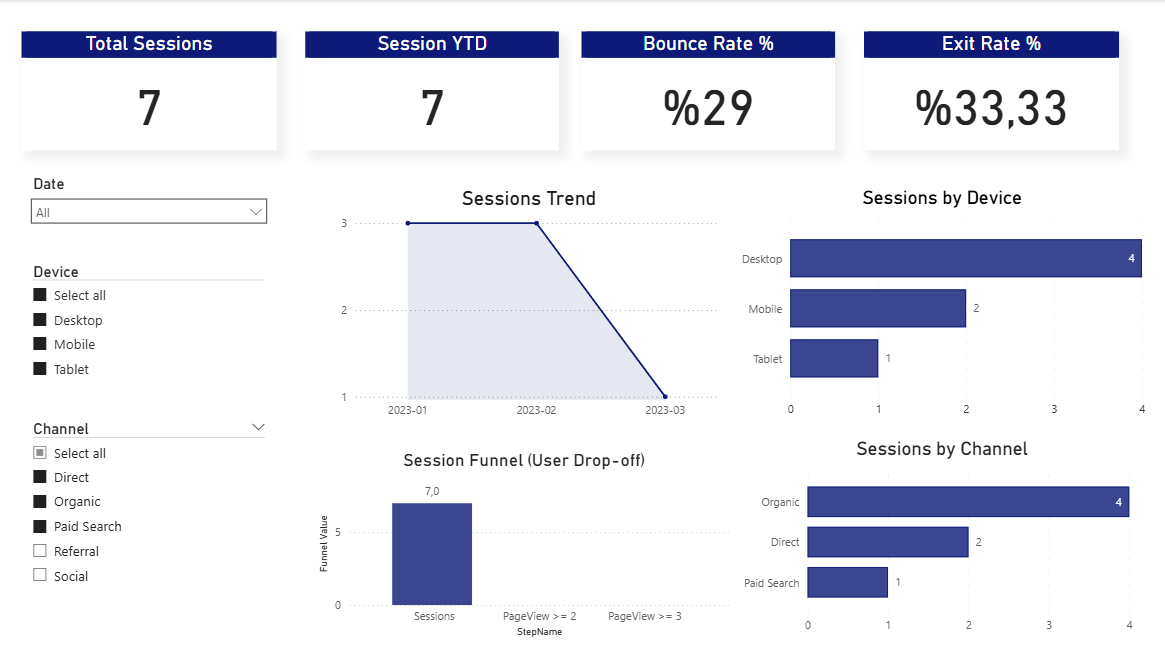

Layout of this report page (visuals, bound fields, positions):
{"tool":"powerbi","page":{"name":"Dashboard","canvas":[1280,720],"ordinal":3},"visuals":[{"type":"card","title":"Total Sessions","fields":{"Values":["FactSessions.Total Sessions"]},"box":[24.7,35.7,279.9,130.4],"z":0},{"type":"card","title":"Bounce Rate %","fields":{"Values":["FactSessions.Bounce Rate %"]},"box":[639.5,35.7,278.6,130.4],"z":1000},{"type":"card","title":"Exit Rate %","fields":{"Values":["FactSessions.Exit Rate %"]},"box":[949.6,35.7,279.9,130.4],"z":2000},{"type":"card","title":"Session YTD","fields":{"Values":["DimChannel.Sessions YTD"]},"box":[336.2,35.7,278.6,130.4],"z":3000},{"type":"lineChart","title":"Sessions Trend","fields":{"Category":["DimDate.Year-Month"],"Y":["FactSessions.Total Sessions"]},"box":[370.5,205.8,422.6,263.5],"z":4000},{"type":"slicer","fields":{"Values":["DimDate.Date"]},"box":[24.7,188,279.9,96.1],"z":5000},{"type":"slicer","fields":{"Values":["DimDevice.Device"]},"box":[24.7,284,279.9,159.2],"z":6000},{"type":"slicer","fields":{"Values":["DimChannel.ChannelName"]},"box":[24.7,456.9,279.9,208.6],"z":7000},{"type":"barChart","title":"Sessions by Device","fields":{"Category":["DimDevice.Device"],"Y":["FactSessions.Total Sessions"]},"box":[807,206,457,263],"z":9000},{"type":"barChart","title":"Sessions by Channel","fields":{"Category":["DimChannel.ChannelName"],"Y":["FactSessions.Total Sessions"]},"box":[807,482,457,224],"z":10000},{"type":"clusteredColumnChart","title":"Session Funnel (User Drop-off)","fields":{"Category":["Funnel Steps.StepName"],"Y":["Funnel Steps.Funnel Value"]},"box":[345.8,495.4,461.1,209.9],"z":10001}]}

Visuals, with their boxes in screenshot pixels (x1, y1, x2, y2), scaled from the page's 1280x720 canvas onto the 1165x652 screenshot:
"Total Sessions" card: BBox(22, 32, 277, 150)
"Bounce Rate %" card: BBox(582, 32, 836, 150)
"Exit Rate %" card: BBox(864, 32, 1119, 150)
"Session YTD" card: BBox(306, 32, 560, 150)
"Sessions Trend" lineChart: BBox(337, 186, 722, 425)
slicer - DimDate.Date: BBox(22, 170, 277, 257)
slicer - DimDevice.Device: BBox(22, 257, 277, 401)
slicer - DimChannel.ChannelName: BBox(22, 414, 277, 603)
"Sessions by Device" barChart: BBox(734, 187, 1150, 425)
"Sessions by Channel" barChart: BBox(734, 436, 1150, 639)
"Session Funnel (User Drop-off)" clusteredColumnChart: BBox(315, 449, 734, 639)
